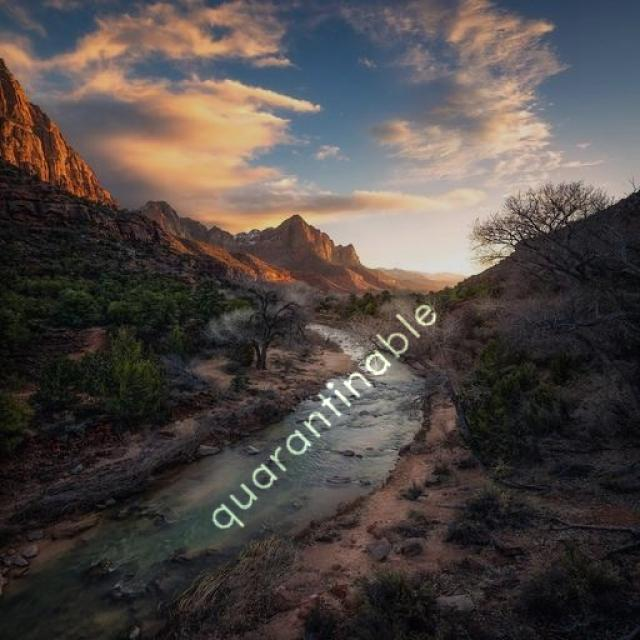watermark: (209, 280, 440, 542)
